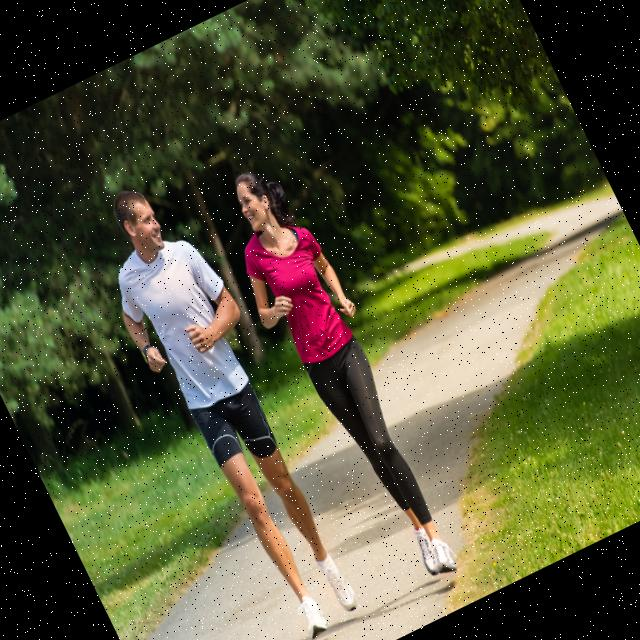Person: (72, 167, 385, 640), (198, 152, 478, 600)
